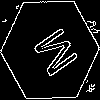M: (25, 25, 80, 85)
